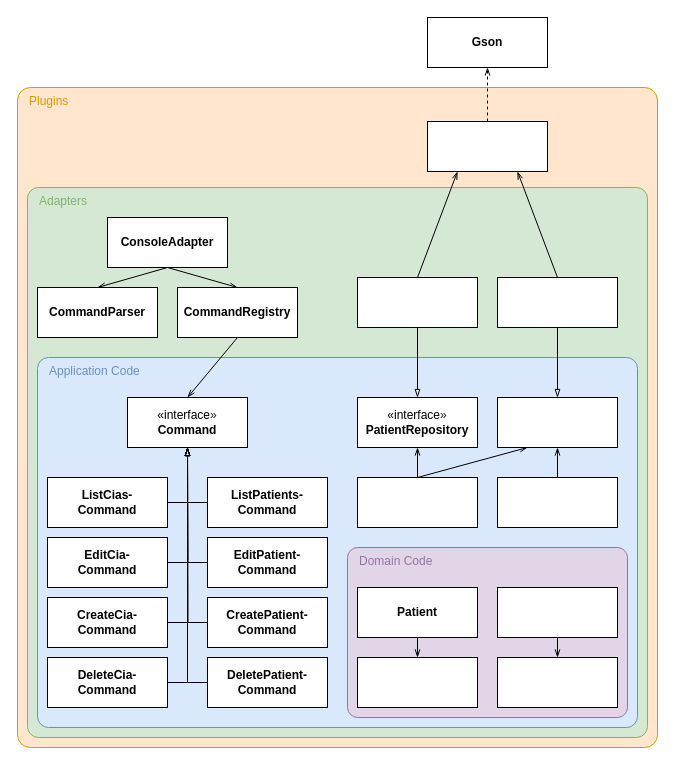
This 675x765 diagram has some shape labels left out. The shapes that lost their labels are listed below. From the top down, each one's centre as x and y in pixels, then its label:
the point at 487,146: FileSerializer
the point at 417,302: FilePatient Repository
the point at 557,302: FileCrisis- Intervention Area- Repository
the point at 557,422: «i nterface » CrisisIntervention- AreaRepository
the point at 417,502: PatientService
the point at 557,502: CrisisIntervention- AreaService
the point at 557,612: Crisis Intervention Area
the point at 417,682: PersonalData
the point at 557,682: RoomData
